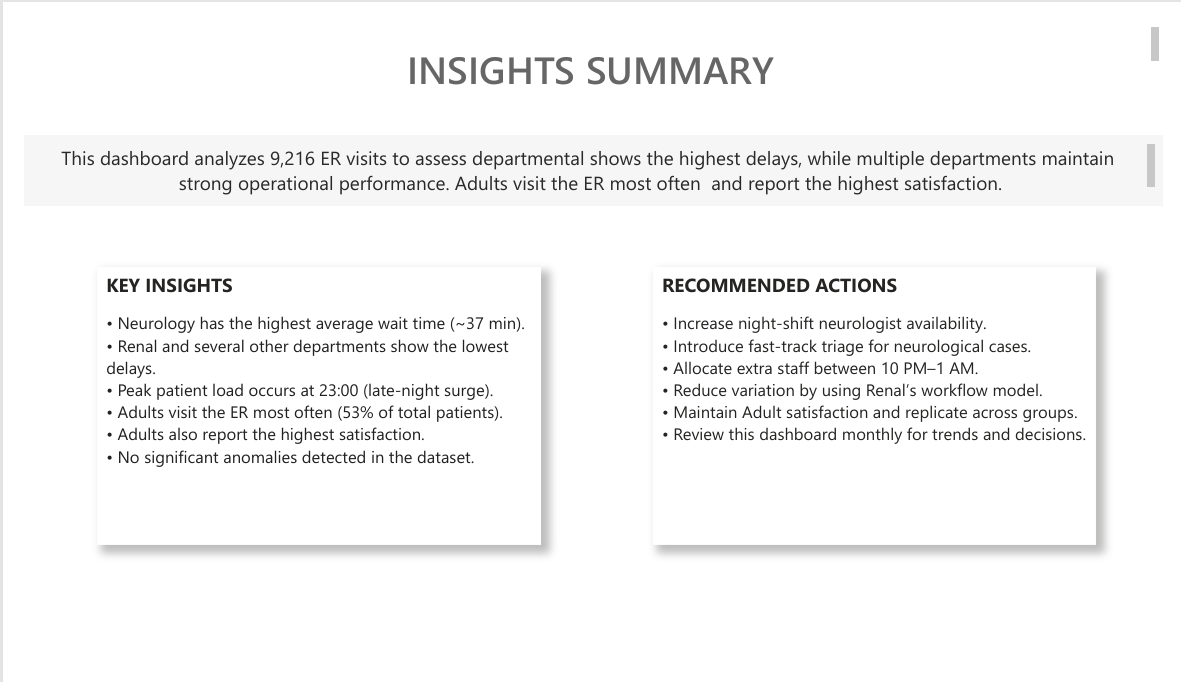

What the dashboard file says about the page in this screenshot:
{"tool":"powerbi","page":{"name":"Insights Summary","canvas":[1280,720],"ordinal":4},"visuals":[{"type":"textbox","box":[0,0,1280.5,83.1],"z":0},{"type":"textbox","box":[0,126,1280.5,79.1],"z":1000},{"type":"textbox","box":[81.8,273.5,498.8,312.4],"z":2000},{"type":"textbox","box":[706.6,273.5,498.8,312.4],"z":3000}]}

Visuals, with their boxes in screenshot pixels (x1, y1, x2, y2), scaled from the page's 1280x720 canvas onto the 1181x682 screenshot:
textbox: (0,0,1180,79)
textbox: (0,119,1180,194)
textbox: (75,259,536,555)
textbox: (652,259,1112,555)
